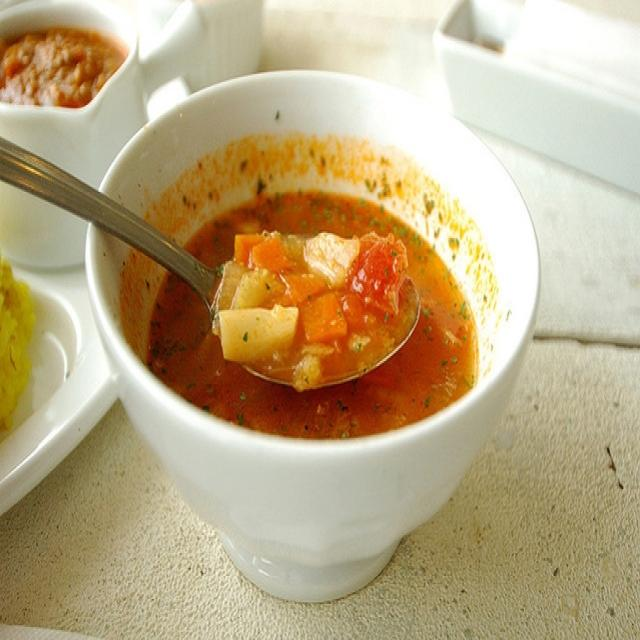蔬菜料理: (11, 0, 638, 638)
